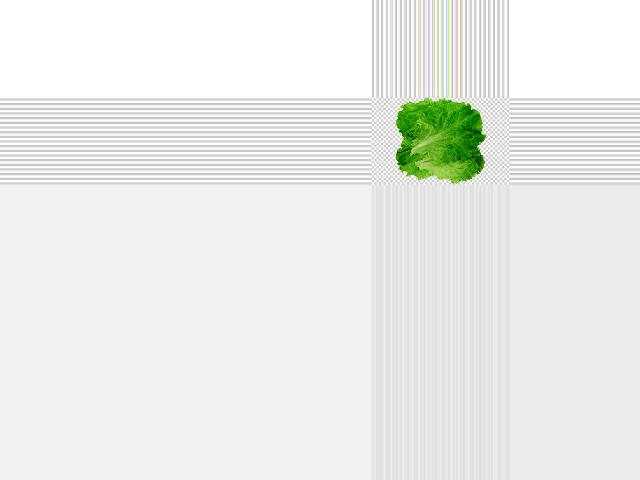lettuce: (389, 96, 491, 185)
